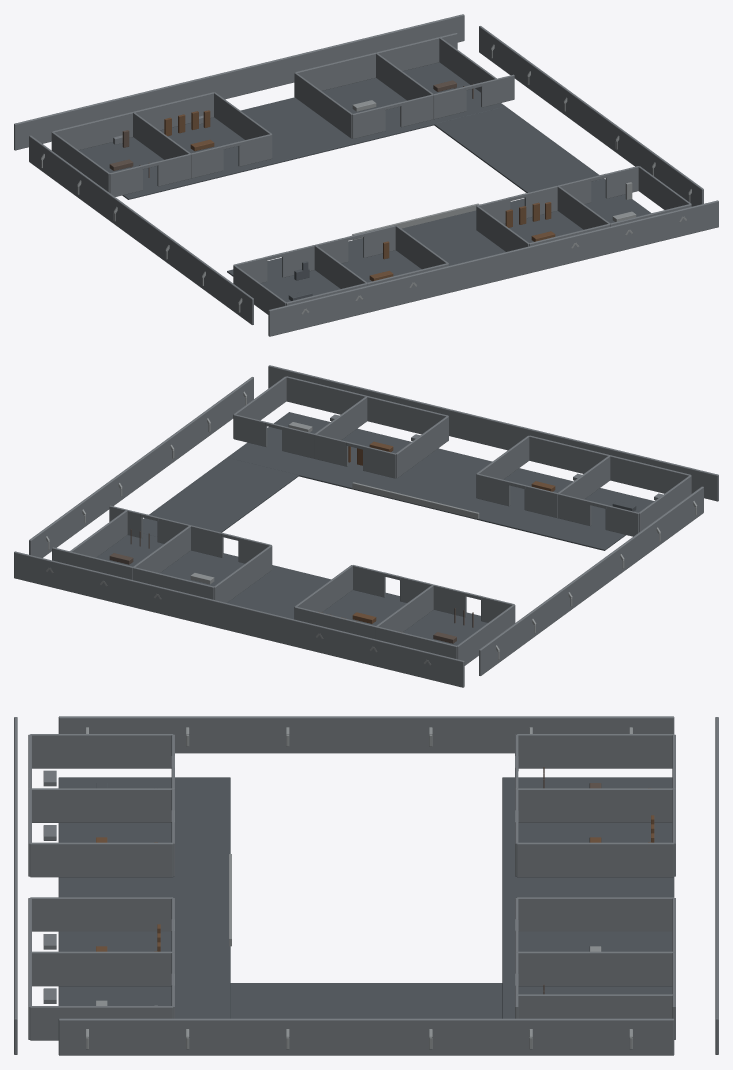
Rendered from floor-3.glb.
3 renders of one model, top to bottom at view 1: azimuth 30°, elevation 25°; view 2: azimuth 150°, elevation 25°; view 3: azimuth 270°, elevation 25°, orthographic. The views are drawn at different scales.
Visible parts, largest first — view 1: VIS_FLOOR_3_SOUTH_WALL, VIS_FLOOR_3_SLAB_NORTH, VIS_FLOOR_3_NORTH_WALL, VIS_FLOOR_3_SLAB_SOUTH, VIS_FLOOR_3_SLAB_EAST, VIS_FLOOR_3_OUTER_WALL_-50, VIS_FLOOR_3_OUTER_WALL_50, VIS_FLOOR_3_NORTH_ROOM_BACK_18, VIS_FLOOR_3_NORTH_ROOM_BACK_-36, VIS_FLOOR_3_NORTH_ROOM_SIDE_L_18, VIS_FLOOR_3_NORTH_ROOM_BACK_36, VIS_FLOOR_3_NORTH_ROOM_BACK_-18 (+27 smaller); view 2: VIS_FLOOR_3_SLAB_SOUTH, VIS_FLOOR_3_NORTH_WALL, VIS_FLOOR_3_SLAB_NORTH, VIS_FLOOR_3_OUTER_WALL_-50, VIS_FLOOR_3_OUTER_WALL_50, VIS_FLOOR_3_SLAB_EAST, VIS_FLOOR_3_SOUTH_WALL, VIS_FLOOR_3_SOUTH_ROOM_BACK_36, VIS_FLOOR_3_SOUTH_ROOM_BACK_18, VIS_FLOOR_3_SOUTH_ROOM_BACK_-18, VIS_FLOOR_3_SOUTH_ROOM_BACK_-36, VIS_FLOOR_3_NORTH_ROOM_SIDE_L_18 (+32 smaller); view 3: VIS_FLOOR_3_SLAB_SOUTH, VIS_FLOOR_3_OUTER_WALL_50, VIS_FLOOR_3_OUTER_WALL_-50, VIS_FLOOR_3_SLAB_NORTH, VIS_FLOOR_3_SLAB_EAST, VIS_FLOOR_3_NORTH_ROOM_SIDE_R_-18, VIS_FLOOR_3_NORTH_ROOM_SIDE_R_18, VIS_FLOOR_3_NORTH_ROOM_SIDE_L_-36, VIS_FLOOR_3_NORTH_ROOM_SIDE_L_18, VIS_FLOOR_3_NORTH_ROOM_SIDE_R_-36, VIS_FLOOR_3_SOUTH_ROOM_SIDE_R_-18, VIS_FLOOR_3_SOUTH_ROOM_SIDE_R_18 (+7 smaller).
Part boxes in pixels (x1,y1,x2,y2): VIS_FLOOR_3_SOUTH_WALL: (268, 200, 718, 336); VIS_FLOOR_3_SLAB_NORTH: (79, 62, 505, 199); VIS_FLOOR_3_NORTH_WALL: (14, 14, 464, 150); VIS_FLOOR_3_SLAB_SOUTH: (227, 179, 651, 302); VIS_FLOOR_3_SLAB_EAST: (434, 106, 604, 192); VIS_FLOOR_3_OUTER_WALL_-50: (29, 135, 253, 324); VIS_FLOOR_3_OUTER_WALL_50: (479, 26, 703, 206); VIS_FLOOR_3_NORTH_ROOM_BACK_18: (295, 52, 375, 90); VIS_FLOOR_3_NORTH_ROOM_BACK_-36: (52, 112, 133, 150); VIS_FLOOR_3_NORTH_ROOM_SIDE_L_18: (294, 72, 352, 138); VIS_FLOOR_3_NORTH_ROOM_BACK_36: (376, 33, 457, 71); VIS_FLOOR_3_NORTH_ROOM_BACK_-18: (133, 92, 213, 130); VIS_FLOOR_3_SLAB_SOUTH: (227, 412, 653, 550); VIS_FLOOR_3_NORTH_WALL: (14, 551, 464, 687); VIS_FLOOR_3_SLAB_NORTH: (96, 533, 487, 645); VIS_FLOOR_3_OUTER_WALL_-50: (479, 486, 703, 675); VIS_FLOOR_3_OUTER_WALL_50: (29, 377, 253, 557); VIS_FLOOR_3_SLAB_EAST: (143, 457, 298, 536); VIS_FLOOR_3_SOUTH_WALL: (268, 365, 718, 501); VIS_FLOOR_3_SOUTH_ROOM_BACK_36: (286, 376, 367, 414); VIS_FLOOR_3_SOUTH_ROOM_BACK_18: (367, 396, 448, 434); VIS_FLOOR_3_SOUTH_ROOM_BACK_-18: (529, 435, 610, 473); VIS_FLOOR_3_SOUTH_ROOM_BACK_-36: (610, 455, 690, 493); VIS_FLOOR_3_NORTH_ROOM_SIDE_L_18: (214, 545, 272, 602); VIS_FLOOR_3_SLAB_SOUTH: (58, 777, 230, 1018); VIS_FLOOR_3_OUTER_WALL_50: (58, 1018, 674, 1055); VIS_FLOOR_3_OUTER_WALL_-50: (58, 716, 674, 753); VIS_FLOOR_3_SLAB_NORTH: (502, 777, 674, 1018); VIS_FLOOR_3_SLAB_EAST: (230, 983, 502, 1018); VIS_FLOOR_3_NORTH_ROOM_SIDE_R_-18: (516, 842, 674, 877); VIS_FLOOR_3_NORTH_ROOM_SIDE_R_18: (517, 951, 673, 986); VIS_FLOOR_3_NORTH_ROOM_SIDE_L_-36: (517, 734, 673, 768); VIS_FLOOR_3_NORTH_ROOM_SIDE_L_18: (517, 897, 673, 931); VIS_FLOOR_3_NORTH_ROOM_SIDE_R_-36: (517, 788, 673, 822); VIS_FLOOR_3_SOUTH_ROOM_SIDE_R_-18: (30, 842, 173, 877); VIS_FLOOR_3_SOUTH_ROOM_SIDE_R_18: (30, 951, 172, 986).
Bounding box in the file's own units: 102 × 5.92 × 98.53.
